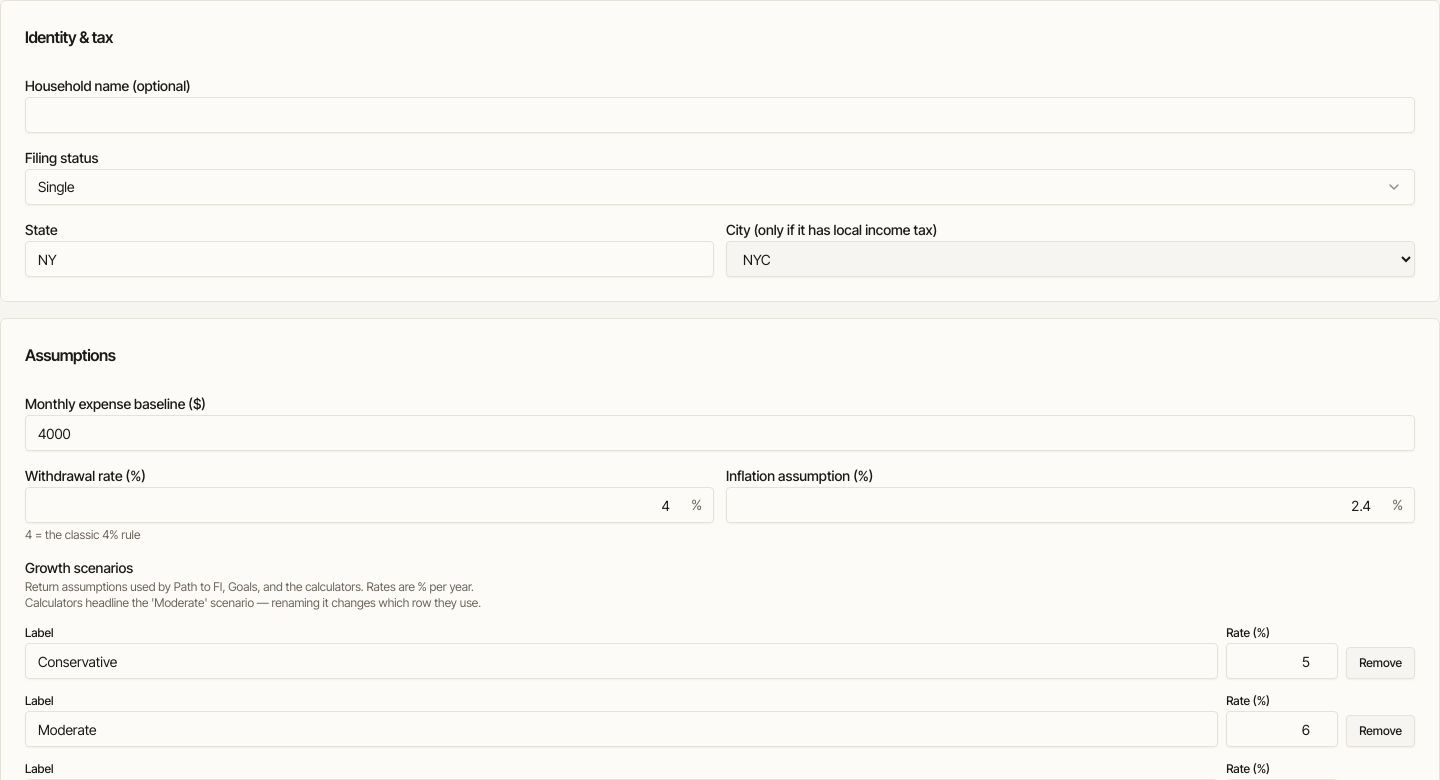
Scenario: HouseholdForm — the city waits for a complete state (v1.8.0 O3, RC3, CR-O-4) › while the state reads one letter, the select still shows the city the form holds
Click the field labelled "State". click: coordinates (370, 259)
box: [25,241,714,277]
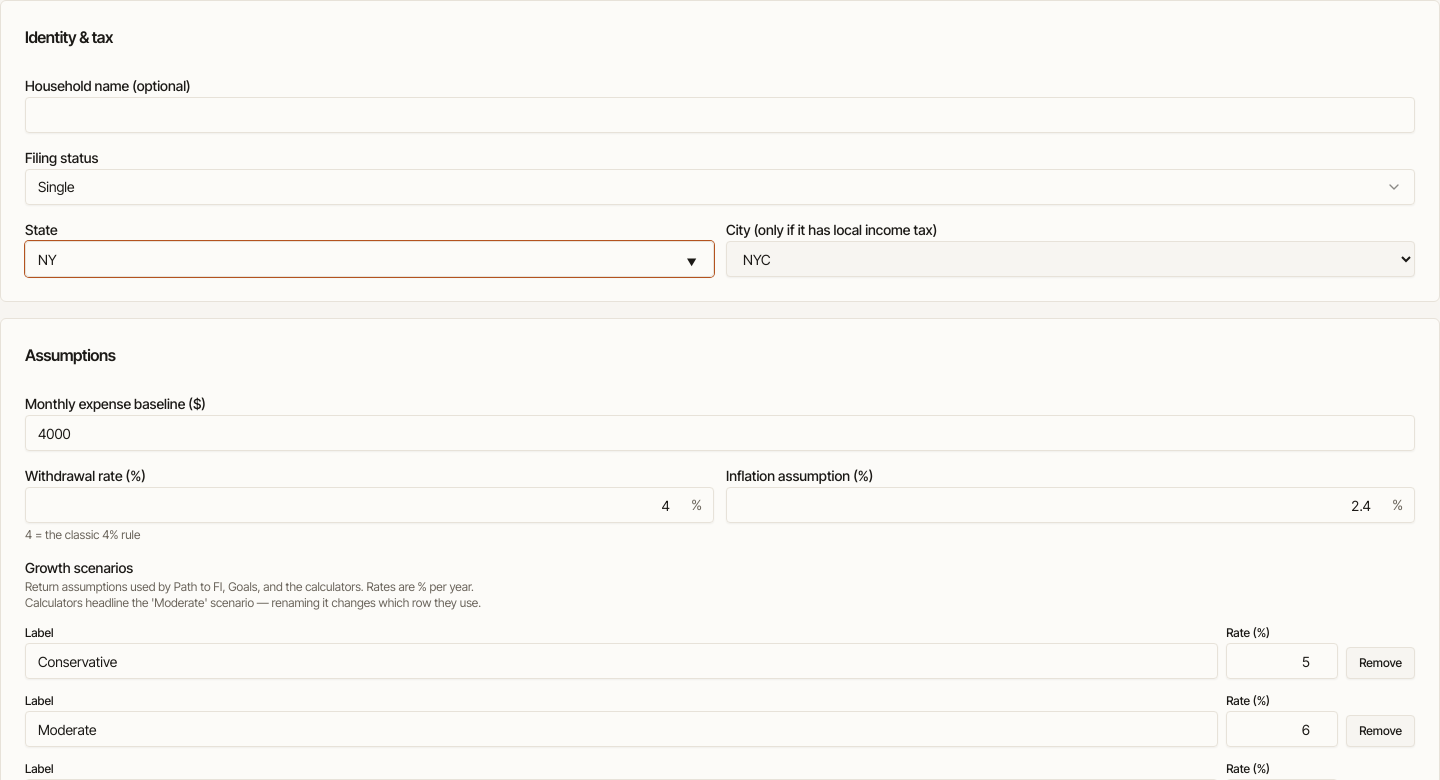
Press End Backspace
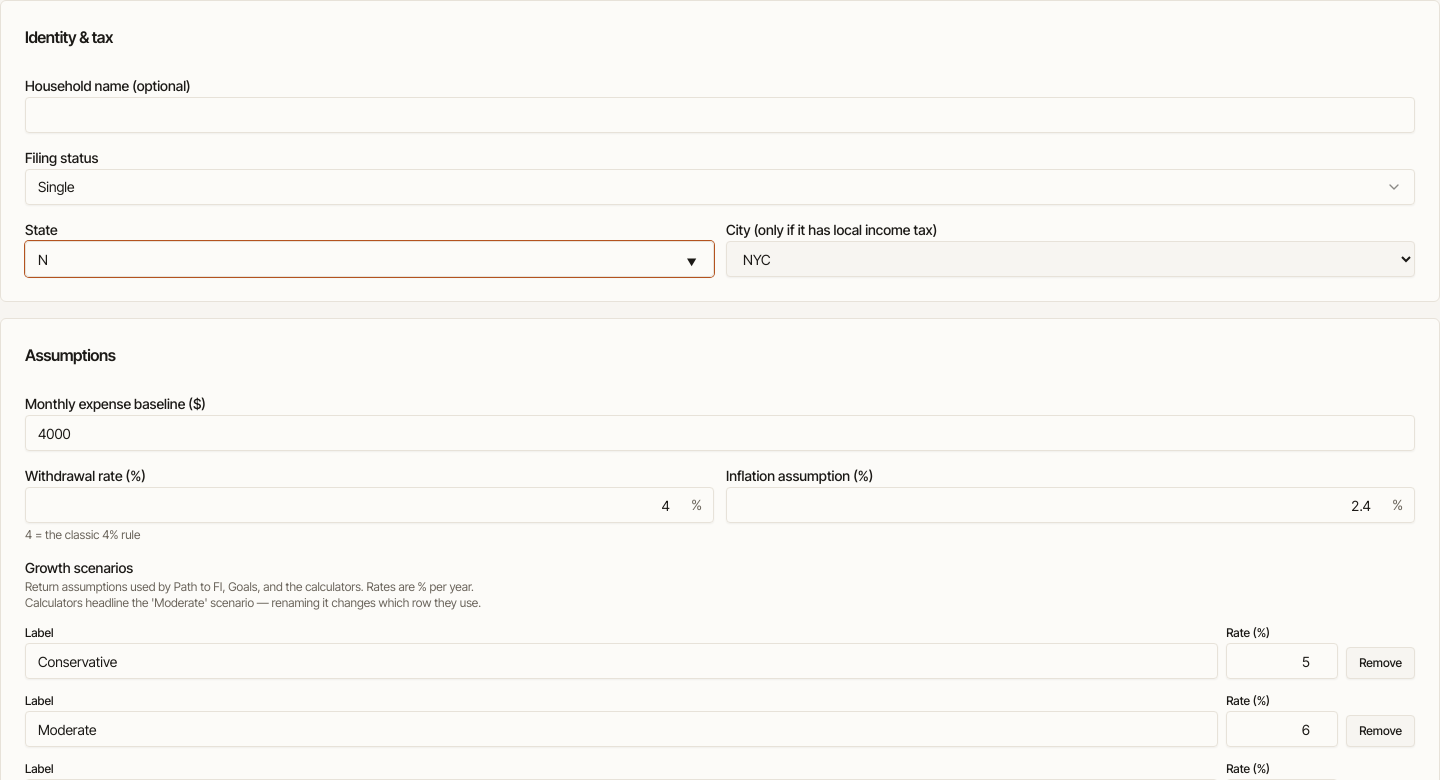
Expected: the dropdown labelled "City (only if it has local income tax)" shows "NYC", [726,241,1415,277]
Now the field labelled "State" holds "N", box [25,241,714,277]
